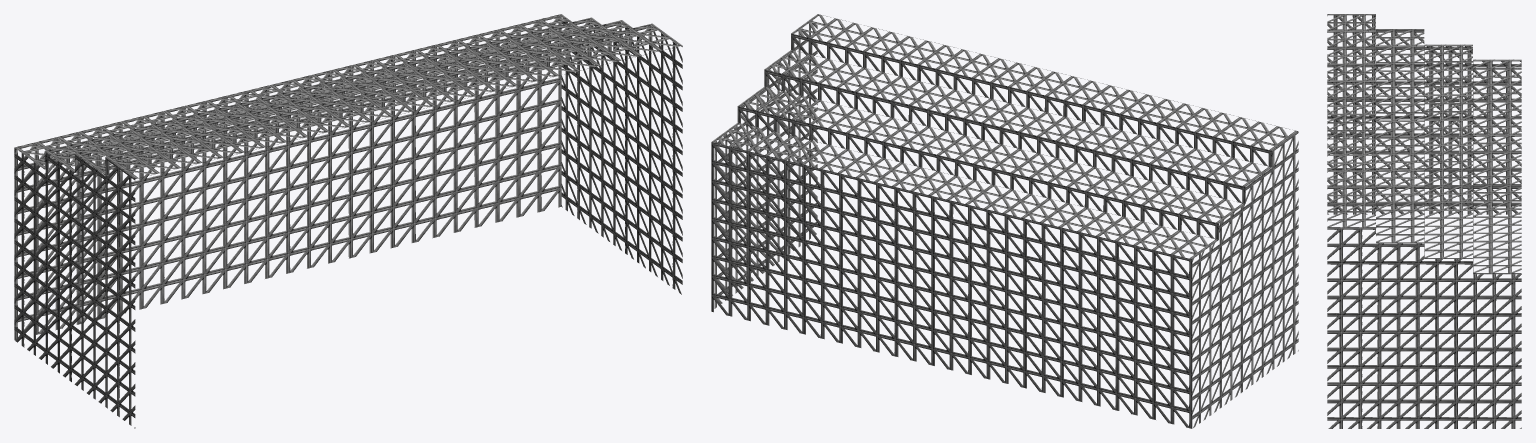
File: FUS0110019.fbx
The picture shows the model from 3 angles, left to right: view 1: azimuth 30°, elevation 25°; view 2: azimuth 150°, elevation 25°; view 3: azimuth 270°, elevation 25°; orthographic projection. The views are drawn at different scales.
Parts seen in each view (by area): view 1: smFUS0110019; view 2: smFUS0110019; view 3: smFUS0110019.
Boxes of the visible parts, x1,y1,x2,y2 form: smFUS0110019: (14,14,682,428); smFUS0110019: (711,14,1298,428); smFUS0110019: (1327,14,1521,428).
Bounding box in the file's own units: 1507 × 657 × 578.
Materials: 1 (1 with a texture image).
